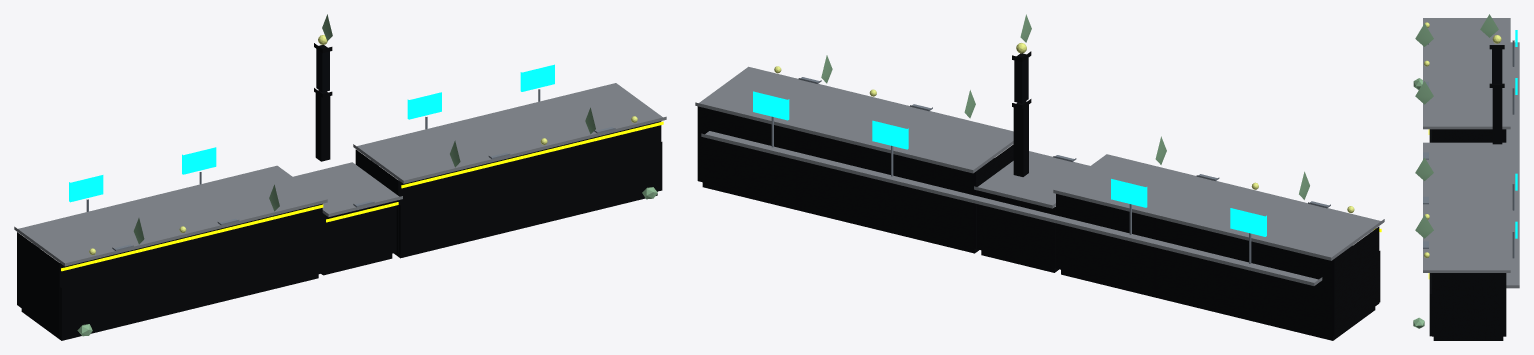
Rendered from v1_court_desk.glb.
3 renders of one model, left to right at view 1: azimuth 30°, elevation 25°; view 2: azimuth 150°, elevation 25°; view 3: azimuth 270°, elevation 25°, orthographic. The views are drawn at different scales.
Parts seen in each view (by area): view 1: Desk_Body_L, Desk_Body_R, Desk_Top_L, Desk_Top_R, Desk_Body_A, Desk_Top_A, Staff_Screens, Court_Line_LED, Blade_Frame, Fascia_Crests, Blade_Core; view 2: Desk_Body_L, Desk_Body_R, Desk_Top_L, Desk_Top_R, Staff_Ledge, Desk_Body_A, Desk_Top_A, Staff_Screens, Blade_Frame, Fascia_Crests, Blade_Core; view 3: Desk_Top_R, Desk_Top_L, Desk_Body_R, Staff_Ledge, Desk_Top_A, Fascia_Crests, Desk_Body_L, Blade_Frame, Blade_Core, Staff_Monitor_Arms, Blade_Crest, Staff_Screens (+3 smaller).
Boxes of the visible parts, x1=… form: Desk_Body_L: x1=17, y1=203, x2=323, y2=340; Desk_Body_R: x1=355, y1=121, x2=662, y2=258; Desk_Top_L: x1=14, y1=165, x2=327, y2=266; Desk_Top_R: x1=353, y1=83, x2=666, y2=183; Desk_Body_A: x1=321, y1=200, x2=396, y2=275; Desk_Top_A: x1=293, y1=162, x2=402, y2=217; Staff_Screens: x1=69, y1=64, x2=554, y2=202; Court_Line_LED: x1=61, y1=121, x2=663, y2=271; Blade_Frame: x1=314, y1=43, x2=332, y2=161; Fascia_Crests: x1=133, y1=107, x2=595, y2=244; Blade_Core: x1=316, y1=49, x2=329, y2=92; Desk_Body_L: x1=1056, y1=194, x2=1380, y2=340; Desk_Body_R: x1=697, y1=106, x2=1013, y2=253; Desk_Top_L: x1=1053, y1=154, x2=1384, y2=260; Desk_Top_R: x1=695, y1=66, x2=1013, y2=173; Staff_Ledge: x1=701, y1=131, x2=1322, y2=285; Desk_Body_A: x1=976, y1=190, x2=1058, y2=272; Desk_Top_A: x1=974, y1=151, x2=1089, y2=208; Staff_Screens: x1=753, y1=91, x2=1266, y2=236; Blade_Frame: x1=1012, y1=51, x2=1031, y2=176; Fascia_Crests: x1=821, y1=55, x2=1309, y2=199; Blade_Core: x1=1014, y1=58, x2=1028, y2=103; Desk_Top_R: x1=1423, y1=161, x2=1510, y2=272; Desk_Top_L: x1=1423, y1=18, x2=1510, y2=129; Desk_Body_R: x1=1429, y1=273, x2=1506, y2=340; Staff_Ledge: x1=1506, y1=42, x2=1519, y2=288; Desk_Top_A: x1=1423, y1=142, x2=1510, y2=161; Fascia_Crests: x1=1415, y1=23, x2=1433, y2=238; Desk_Body_L: x1=1429, y1=129, x2=1506, y2=142; Blade_Frame: x1=1489, y1=45, x2=1504, y2=144; Blade_Core: x1=1492, y1=49, x2=1502, y2=83; Staff_Monitor_Arms: x1=1512, y1=40, x2=1514, y2=258; Blade_Crest: x1=1480, y1=14, x2=1498, y2=37; Staff_Screens: x1=1515, y1=30, x2=1517, y2=238.
Size of what is drawn, in the model's own units: 8 by 2.93 by 1.41.
8 materials, 3 textured.
